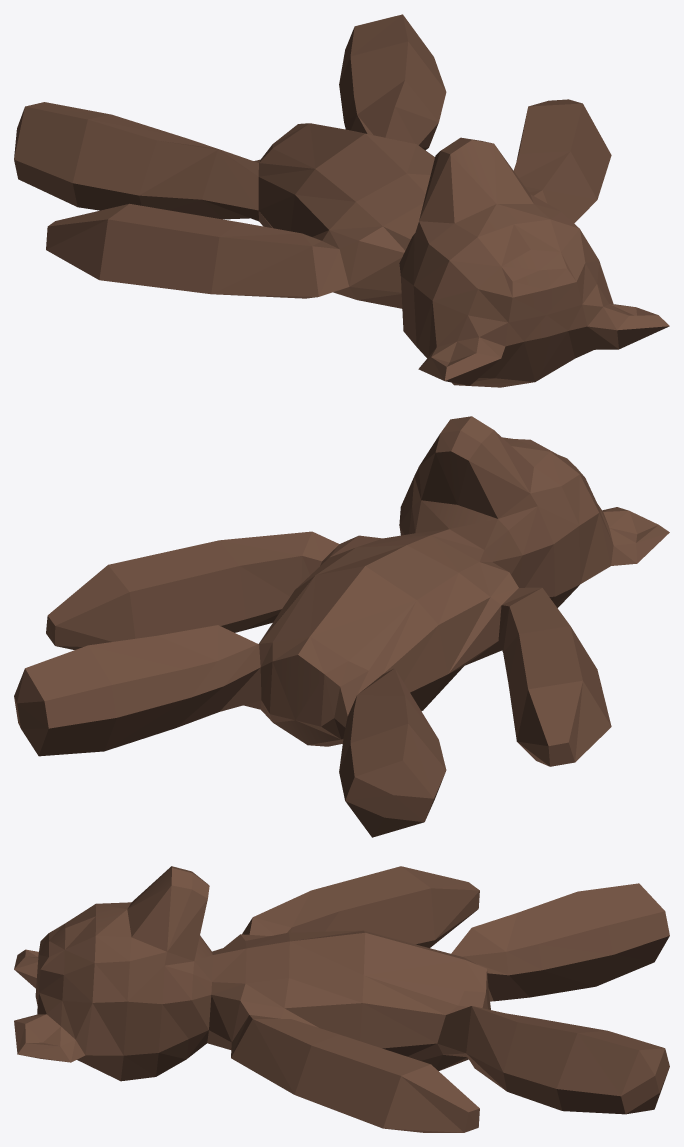
The model's file is SM_teddyBearProne.fbx.
The picture shows the model from 3 angles, top to bottom: view 1: azimuth 30°, elevation 25°; view 2: azimuth 150°, elevation 25°; view 3: azimuth 270°, elevation 25°; orthographic projection. The views are drawn at different scales.
Parts seen in each view (by area): view 1: teddyProne; view 2: teddyProne; view 3: teddyProne.
Boxes of the visible parts, x1,y1,x2,y2 form: teddyProne: (14,14,669,387); teddyProne: (14,416,669,837); teddyProne: (14,866,669,1132).
Bounding box in the file's own units: 598 × 248 × 710.
